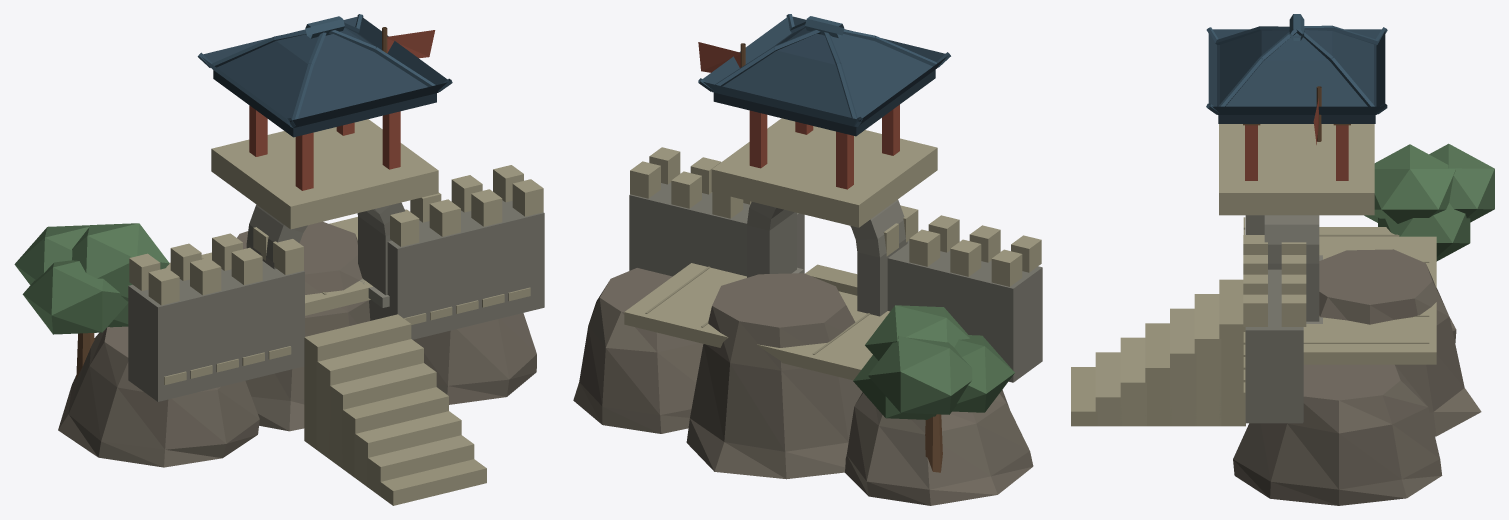
3 renders of one model, left to right at view 1: azimuth 30°, elevation 25°; view 2: azimuth 150°, elevation 25°; view 3: azimuth 270°, elevation 25°, orthographic.
Parts seen in each view (by area): view 1: S35_金城 · 山岭石城; view 2: S35_金城 · 山岭石城; view 3: S35_金城 · 山岭石城.
Boxes of the visible parts, x1=… form: S35_金城 · 山岭石城: x1=14, y1=14, x2=544, y2=505; S35_金城 · 山岭石城: x1=573, y1=14, x2=1042, y2=505; S35_金城 · 山岭石城: x1=1071, y1=14, x2=1494, y2=505.
Bounding box in the file's own units: 4.11 × 3.41 × 3.43.
